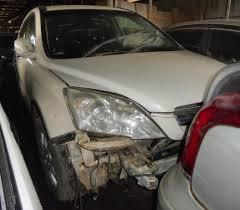Bumper: (68, 132, 179, 175)
